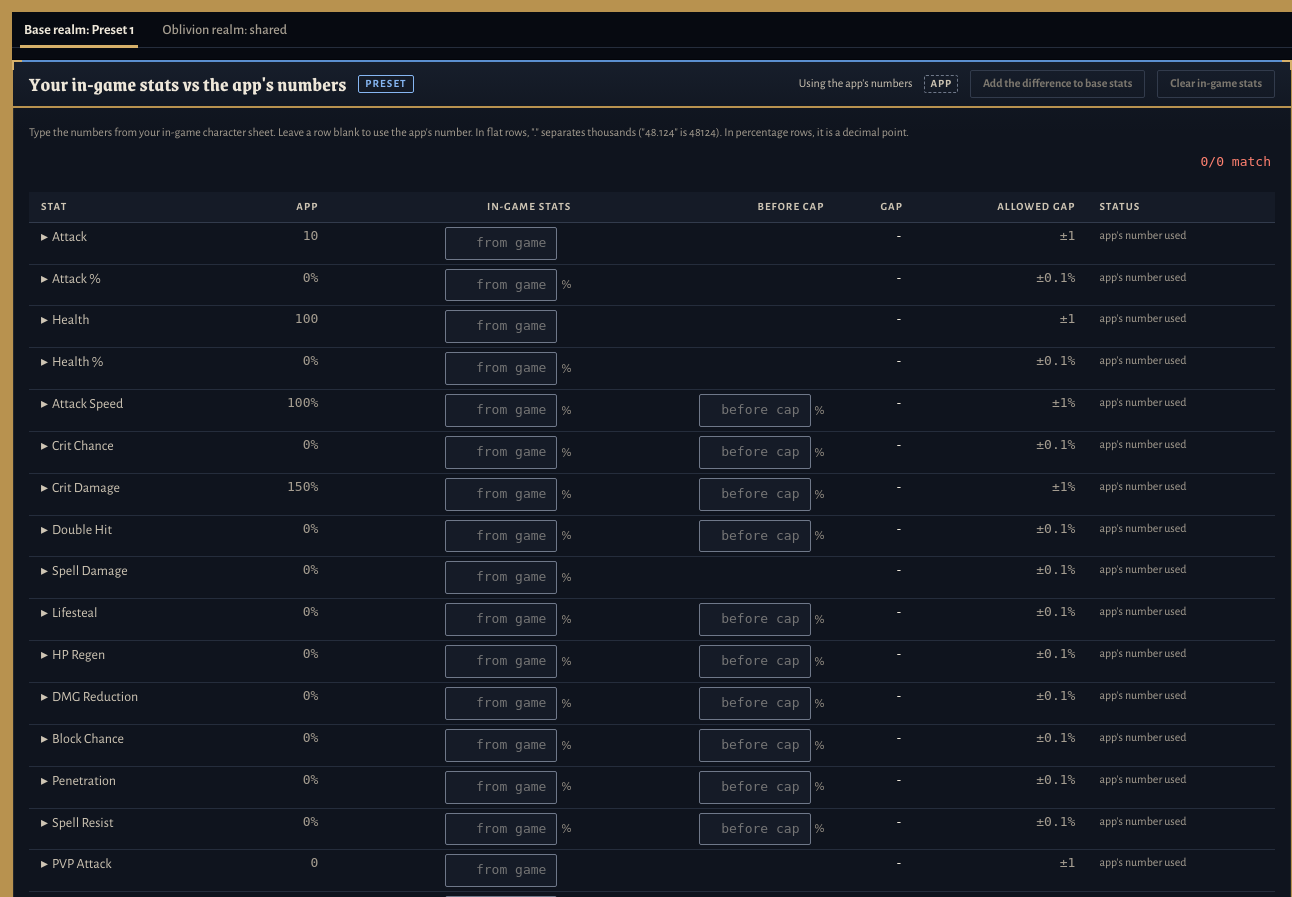
Test: the table is one list: gap, tolerance and status per entered row, and an explained count
The width and height of the screenshot is (1292, 897).
Type "10" into the field with id "sheet-totalAttack" at point(501, 243), box [445,227,557,260]
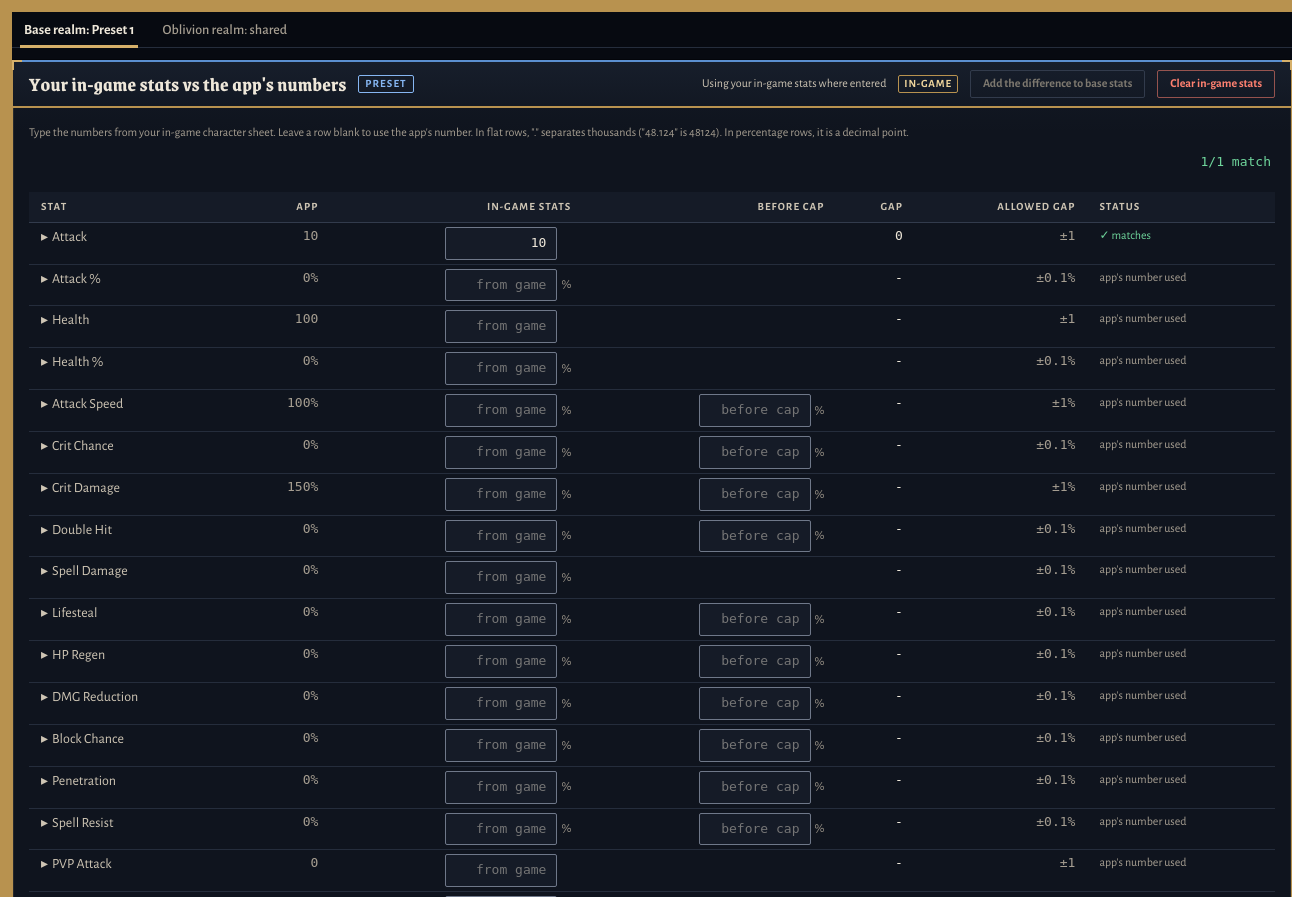
Type "5100" into the 2nd field with placeholder "from game" at point(501, 327), box [445,310,557,343]
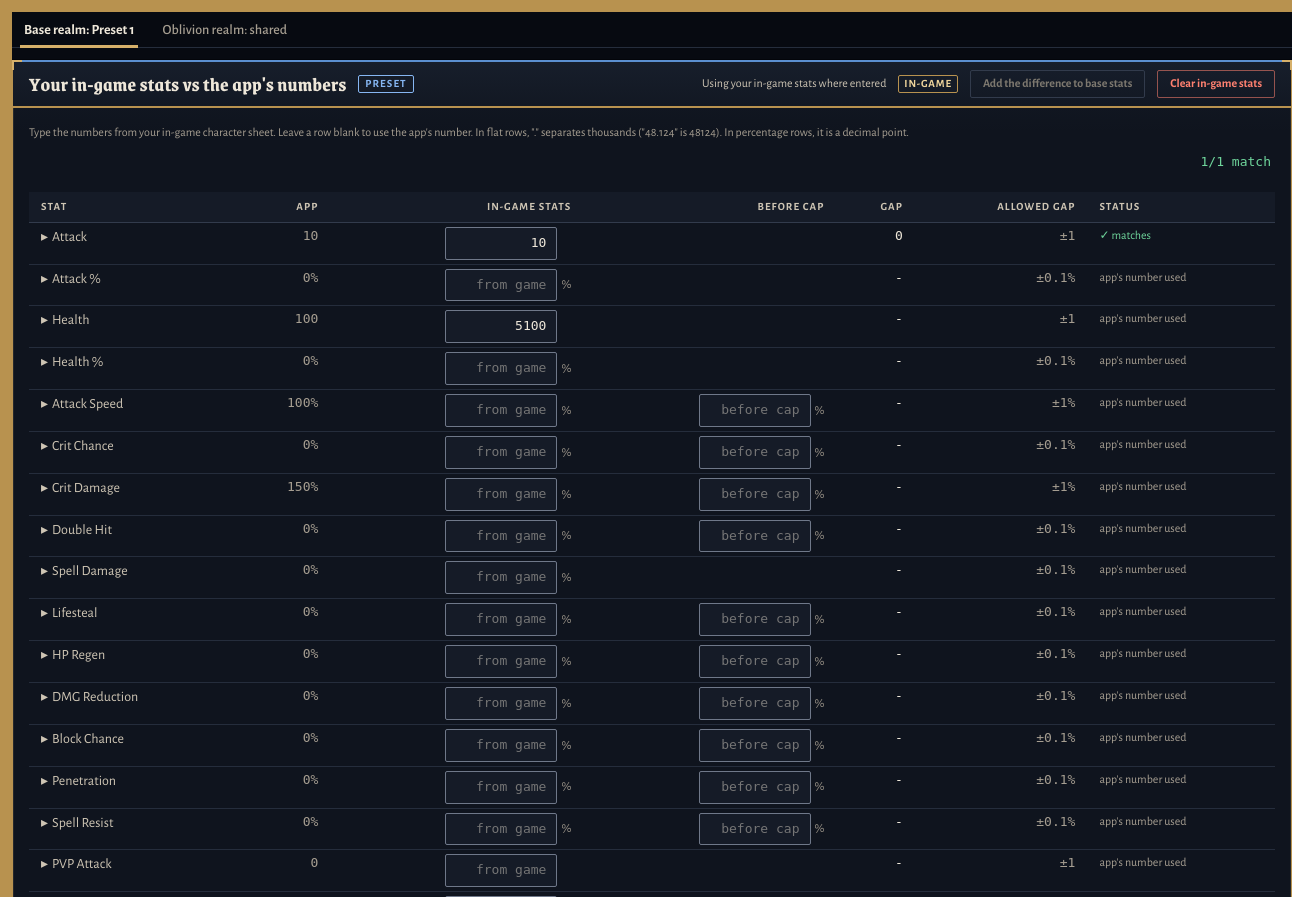
Leave the field named "Health", box [445,310,557,343]
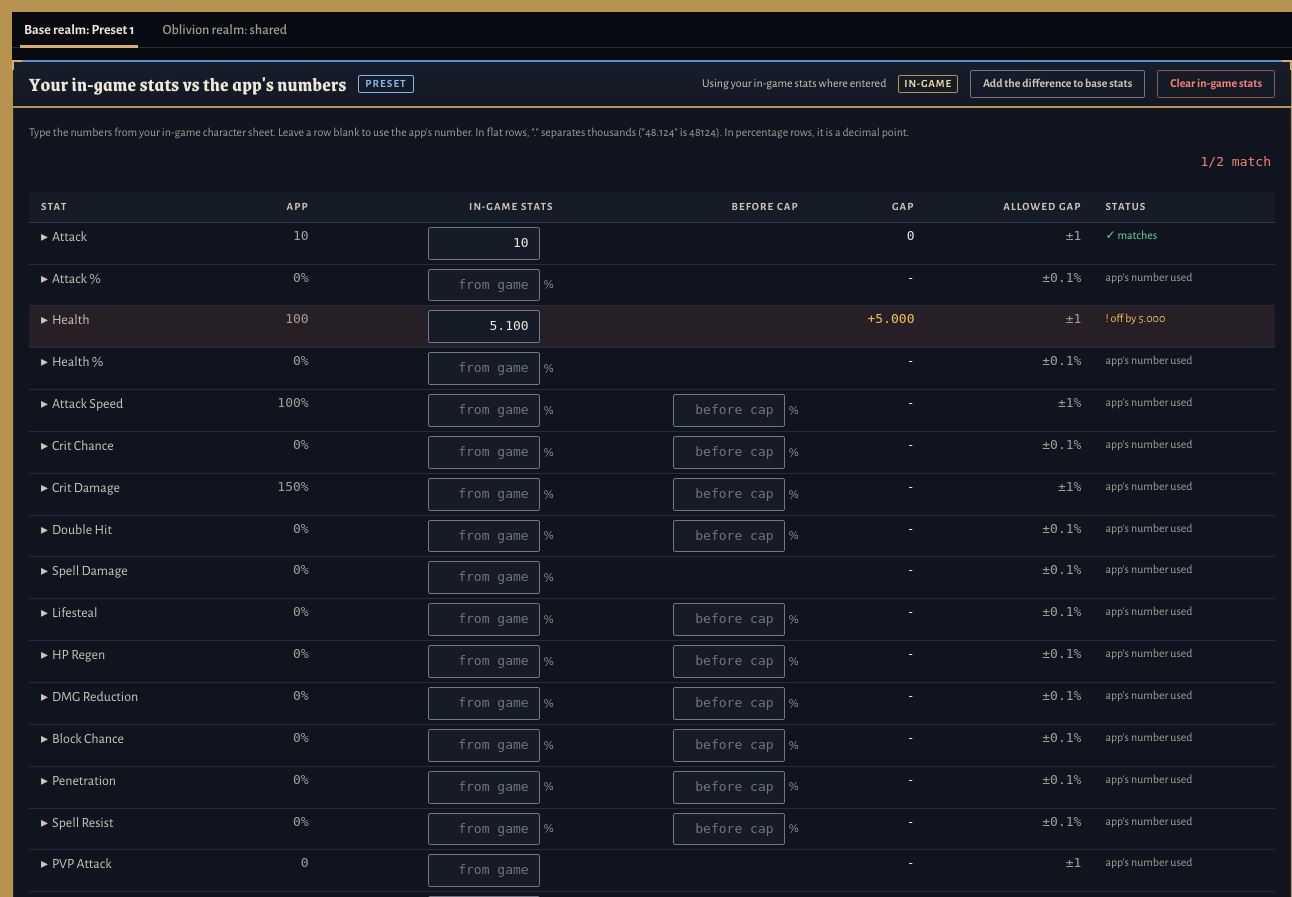
Now the cell with class "status" shows "matches", box [1116,229,1157,241]
Now the cell with class "status" shows "off by", box [1108,312,1165,324]
Now the text with test id "diff-summary" reads "1/2 match", box [1200,154,1271,169]
